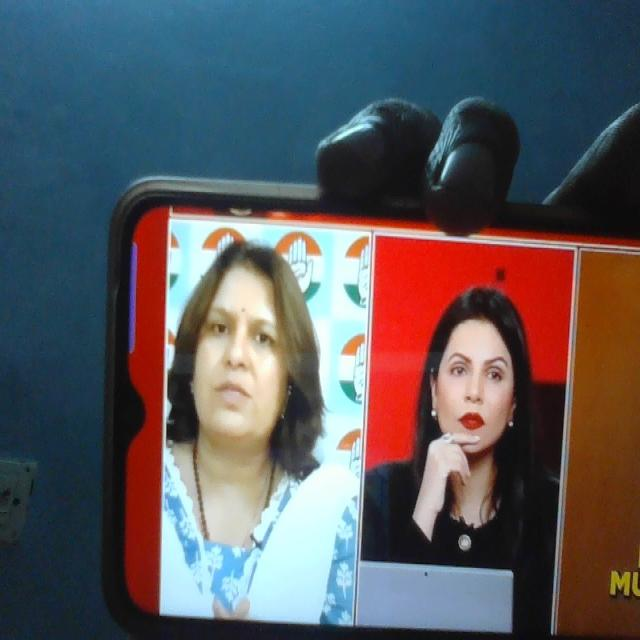fake: (181, 234, 299, 458), (423, 272, 527, 468)
